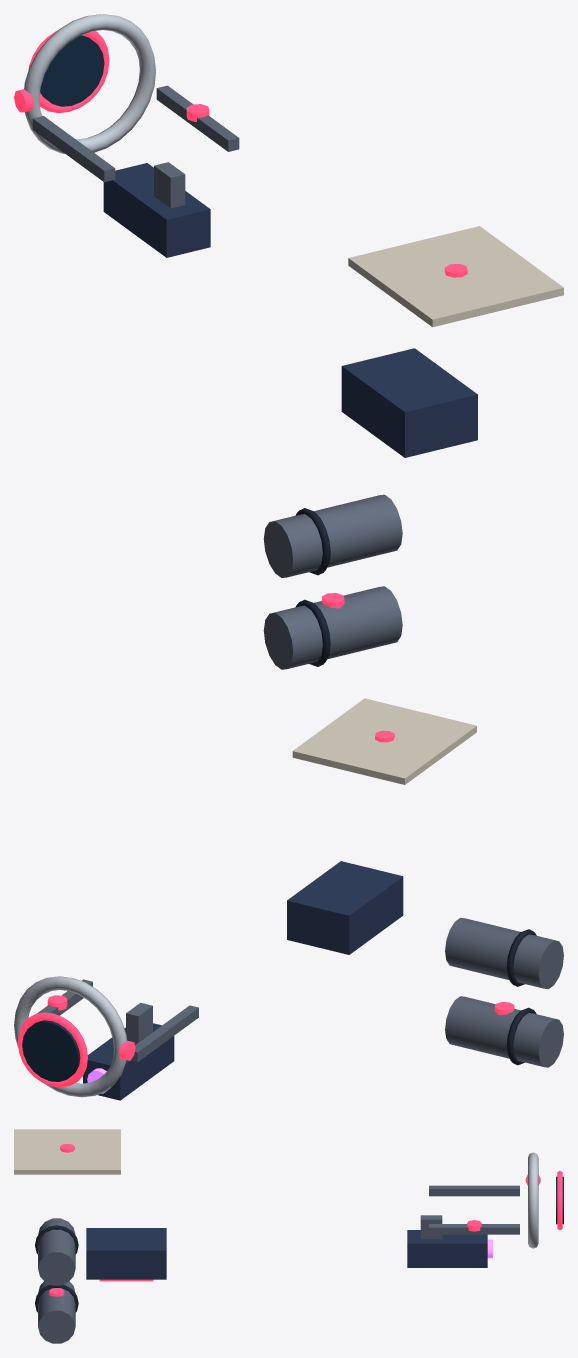
File: tower_filament_peak_s8.glb
3 views of the same model, one above another, from view 1: azimuth 30°, elevation 25°; view 2: azimuth 150°, elevation 25°; view 3: azimuth 270°, elevation 25° (orthographic). The views are drawn at different scales.
Visible parts, largest first — view 1: filament_dielectric, filament_coupler, filament_cap0.12, filament_cap-0.12, filament_shred_emitter, filament_aperture_ring, filament_lens_b, filament_lens_brace_r, filament_lens_brace_l, filament_shred_mount, filament_lens_b_ring; view 2: filament_dielectric, filament_coupler, filament_cap0.12, filament_cap-0.12, filament_aperture_ring, filament_lens_b, filament_shred_emitter, filament_lens_b_ring, filament_lens_brace_r, filament_shred_mount; view 3: filament_dielectric, filament_coupler, filament_shred_emitter, filament_cap0.12, filament_cap-0.12, filament_lens_brace_r, filament_aperture_ring, filament_lens_brace_l, filament_shred_mount, filament_lens_b_ring, filament_cap_rib0.12, filament_cap_rib-0.12.
Boxes of the visible parts, <box> form: filament_dielectric: <box>348,226,563,327</box>; filament_coupler: <box>341,348,477,457</box>; filament_cap0.12: <box>263,494,402,577</box>; filament_cap-0.12: <box>263,586,402,669</box>; filament_shred_emitter: <box>103,163,210,257</box>; filament_aperture_ring: <box>24,14,155,153</box>; filament_lens_b: <box>40,35,104,106</box>; filament_lens_brace_r: <box>32,116,115,182</box>; filament_lens_brace_l: <box>156,85,239,151</box>; filament_shred_mount: <box>154,162,185,208</box>; filament_lens_b_ring: <box>28,31,109,112</box>; filament_dielectric: <box>292,698,476,784</box>; filament_coupler: <box>287,861,403,954</box>; filament_cap0.12: <box>445,917,563,989</box>; filament_cap-0.12: <box>445,996,563,1067</box>; filament_aperture_ring: <box>14,976,126,1097</box>; filament_lens_b: <box>22,1020,80,1081</box>; filament_shred_emitter: <box>83,1023,174,1100</box>; filament_lens_b_ring: <box>18,1012,87,1087</box>; filament_lens_brace_r: <box>131,1005,198,1062</box>; filament_shred_mount: <box>126,1002,152,1042</box>; filament_dielectric: <box>14,1129,120,1174</box>; filament_coupler: <box>86,1228,166,1279</box>; filament_shred_emitter: <box>407,1230,487,1267</box>; filament_cap0.12: <box>38,1218,75,1285</box>; filament_cap-0.12: <box>38,1281,75,1343</box>; filament_lens_brace_r: <box>429,1185,519,1196</box>; filament_aperture_ring: <box>528,1152,538,1248</box>; filament_lens_brace_l: <box>429,1224,519,1234</box>; filament_shred_mount: <box>420,1215,442,1239</box>; filament_lens_b_ring: <box>557,1171,562,1229</box>; filament_cap_rib0.12: <box>35,1225,78,1254</box>; filament_cap_rib-0.12: <box>35,1284,78,1312</box>.
Bounding box in the file's own units: 0.708 × 0.923 × 2.06.
